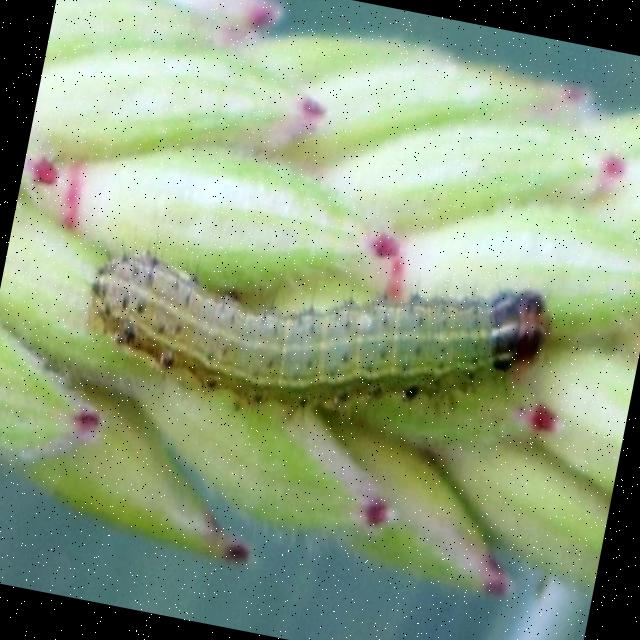worm: (73, 205, 559, 462)
